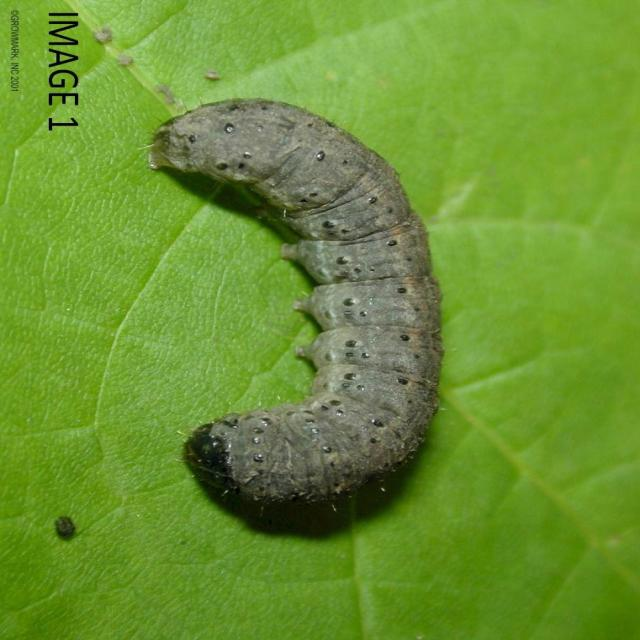black cutworm: (147, 97, 461, 522)
